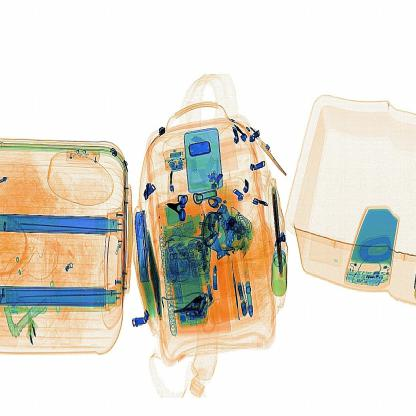gun: (160, 190, 196, 223)
